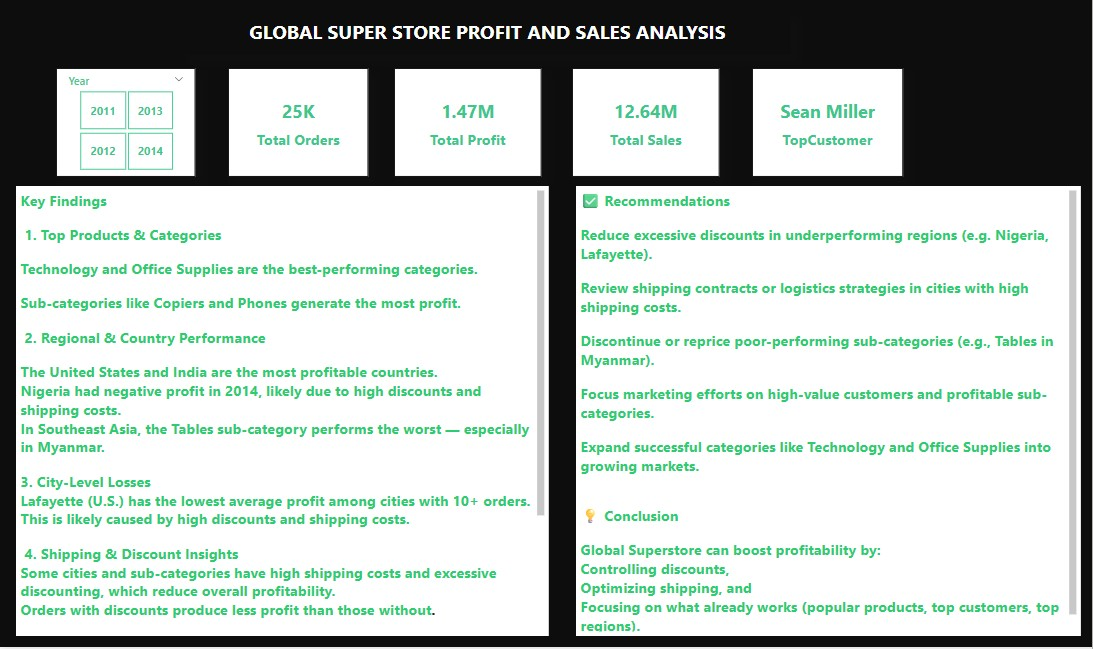

Layout of this report page (visuals, bound fields, positions):
{"tool":"powerbi","page":{"name":"Analysis","canvas":[1280,720],"ordinal":2},"visuals":[{"type":"textbox","box":[204,17,674,45],"z":4000},{"type":"card","fields":{"Values":["Orders.Profit"]},"box":[438,77,164,121],"z":5000},{"type":"card","fields":{"Values":["Orders.Total Orders"]},"box":[253,77,156,121],"z":6000},{"type":"card","fields":{"Values":["Orders.Sales"]},"box":[636,77,164,121],"z":7000},{"type":"card","fields":{"Values":["Orders.TopCustomer"]},"box":[835,77,168,121],"z":8000},{"type":"slicer","fields":{"Values":["Orders.Order Date.Variation.Date Hierarchy.Year"]},"box":[62,77,155,121],"z":9000},{"type":"textbox","box":[17.8,207.8,592.2,500],"z":9001},{"type":"textbox","box":[640,207.8,561.1,500],"z":9002}]}

Visuals, with their boxes on the page's 1280x720 design canvas (x1, y1, x2, y2). These are canvas units, not pixel positions in the 1093x649 screenshot, which may show the page scaled, cropped or inside an application window:
textbox: [204, 17, 878, 62]
card - Orders.Profit: [438, 77, 602, 198]
card - Orders.Total Orders: [253, 77, 409, 198]
card - Orders.Sales: [636, 77, 800, 198]
card - Orders.TopCustomer: [835, 77, 1003, 198]
slicer - Orders.Order Date.Variation.Date Hierarchy.Year: [62, 77, 217, 198]
textbox: [18, 208, 610, 708]
textbox: [640, 208, 1201, 708]
